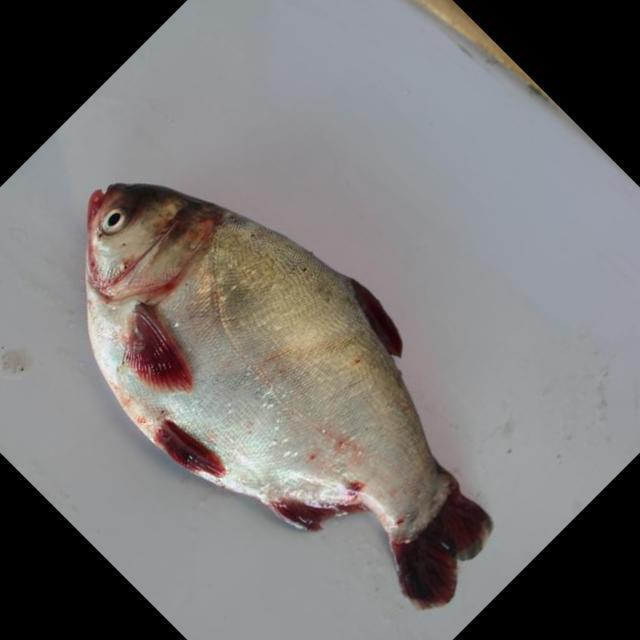SilverCarp: (76, 170, 479, 611)
